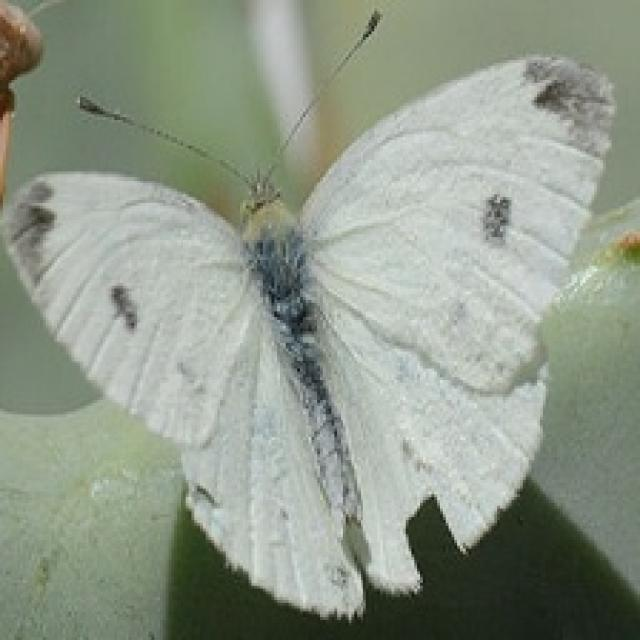butterfly: (0, 6, 617, 623)
